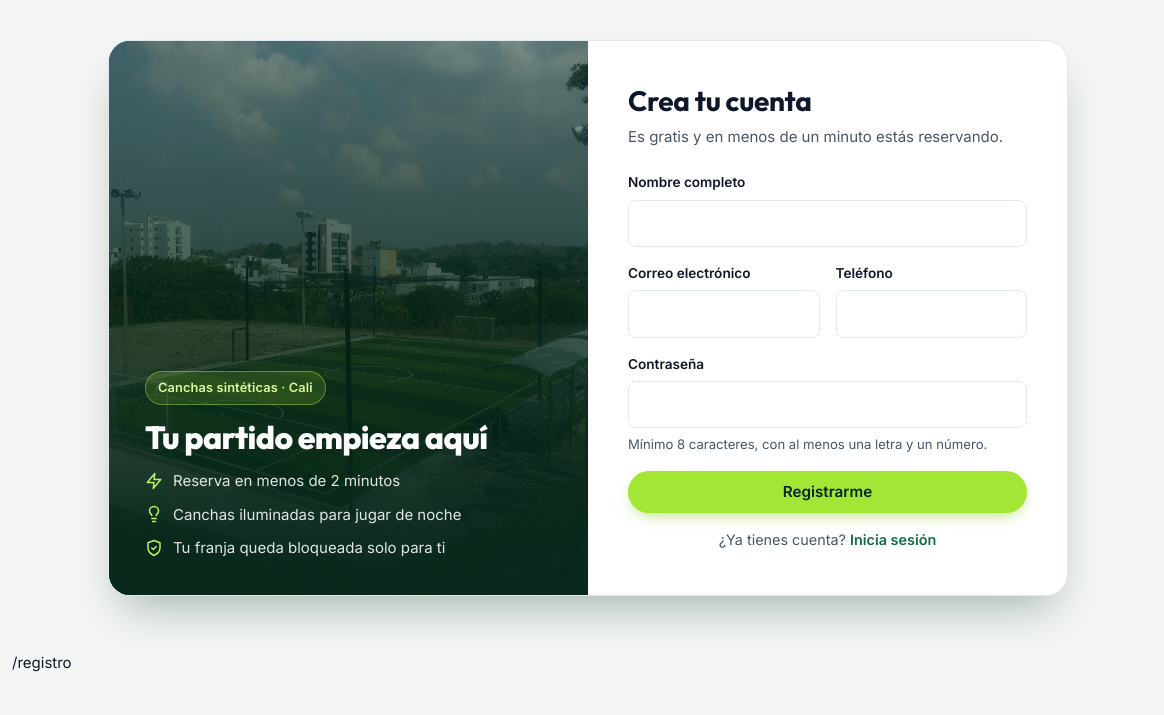
Test: RegisterPage › muestra el error cuando el correo ya existe
In the field labelled "Nombre completo": (828,223) [628,200,1027,247], type "Ana Pérez"
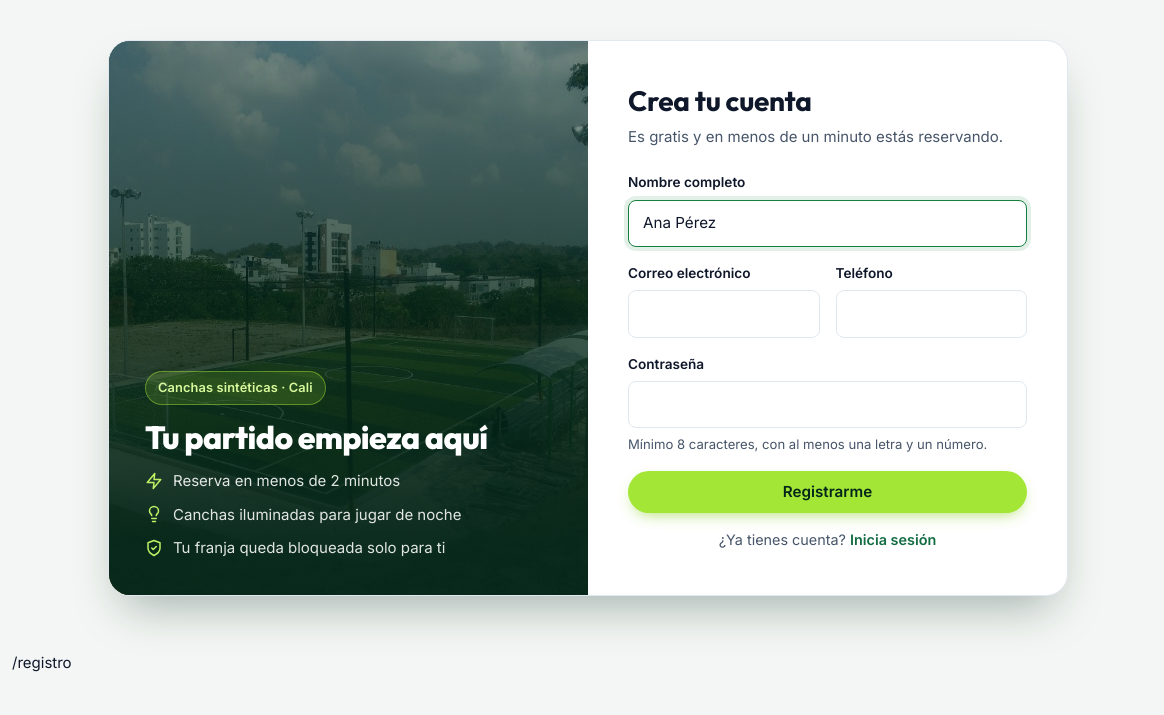
In the field labelled "Correo electrónico": (724,314) [628,290,820,338], type "ana@correo.com"
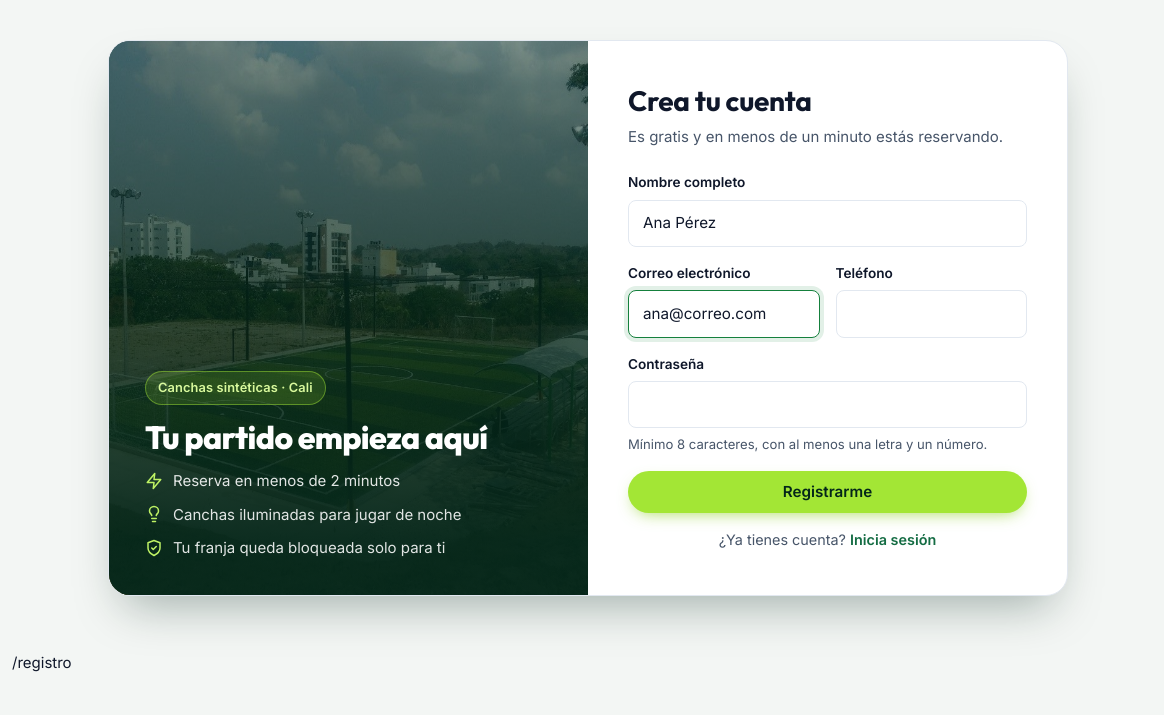
In the field labelled "Teléfono": (931,314) [836,290,1027,338], type "3001234567"
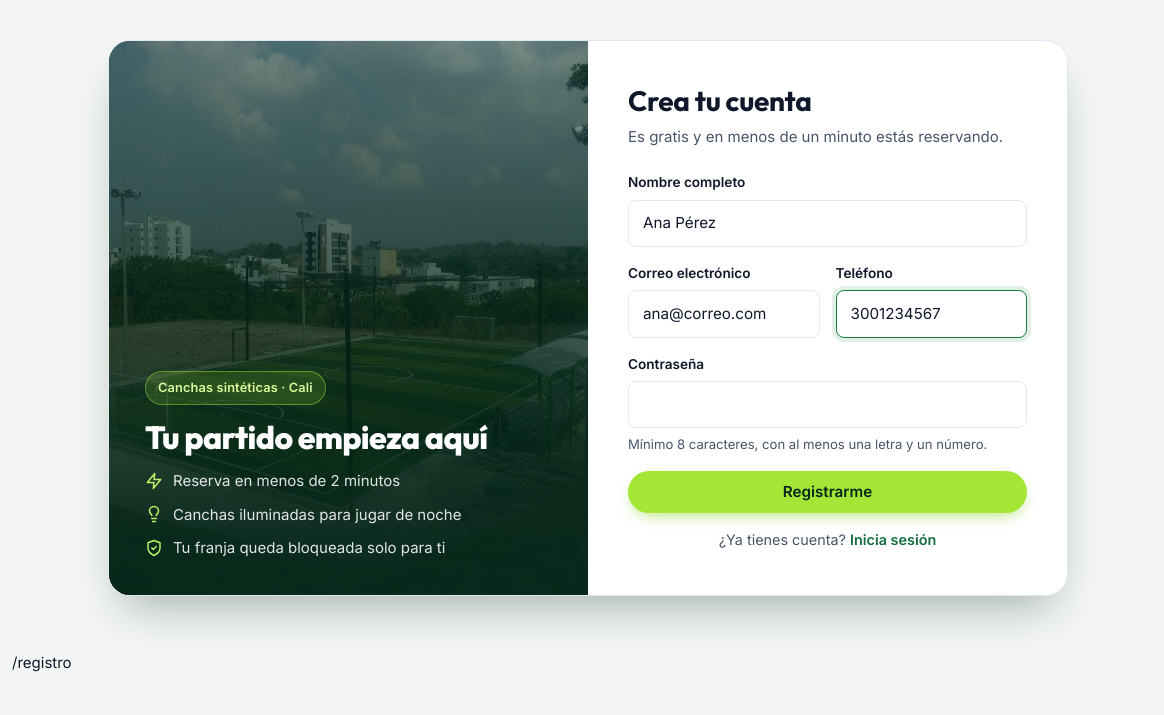
In the password field labelled "Contraseña": (828,404) [628,381,1027,428], type "Clave1234"
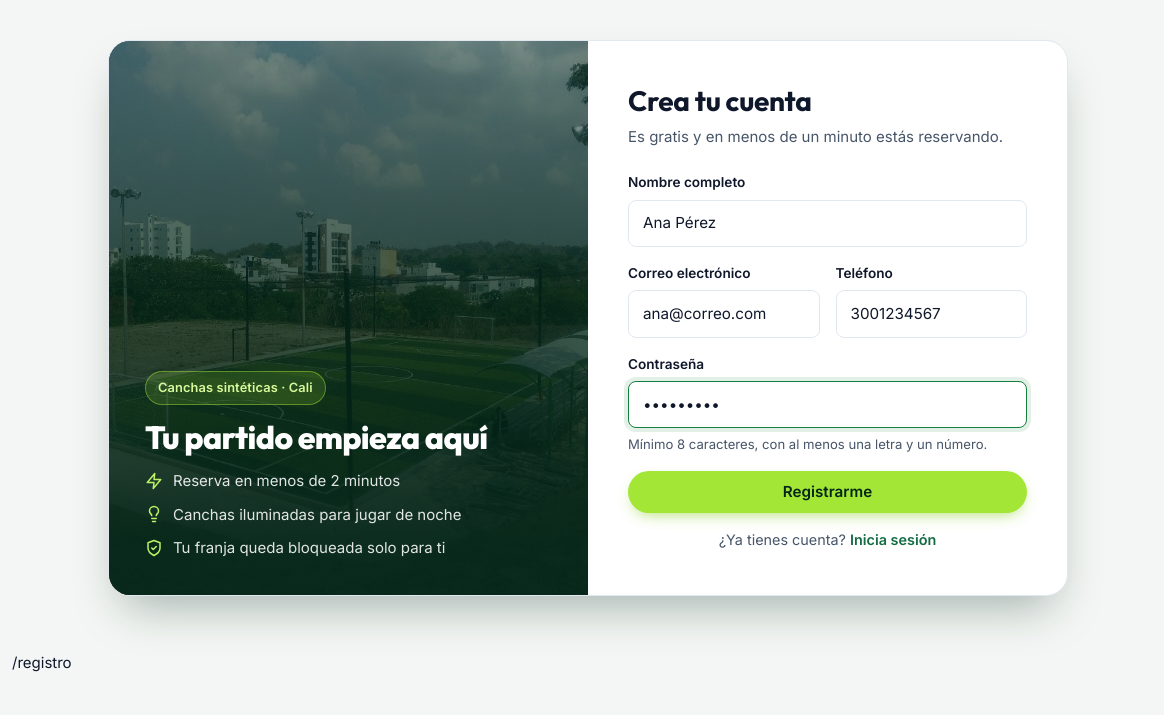
Click the button "Registrarme": (828,492) [628,471,1027,513]
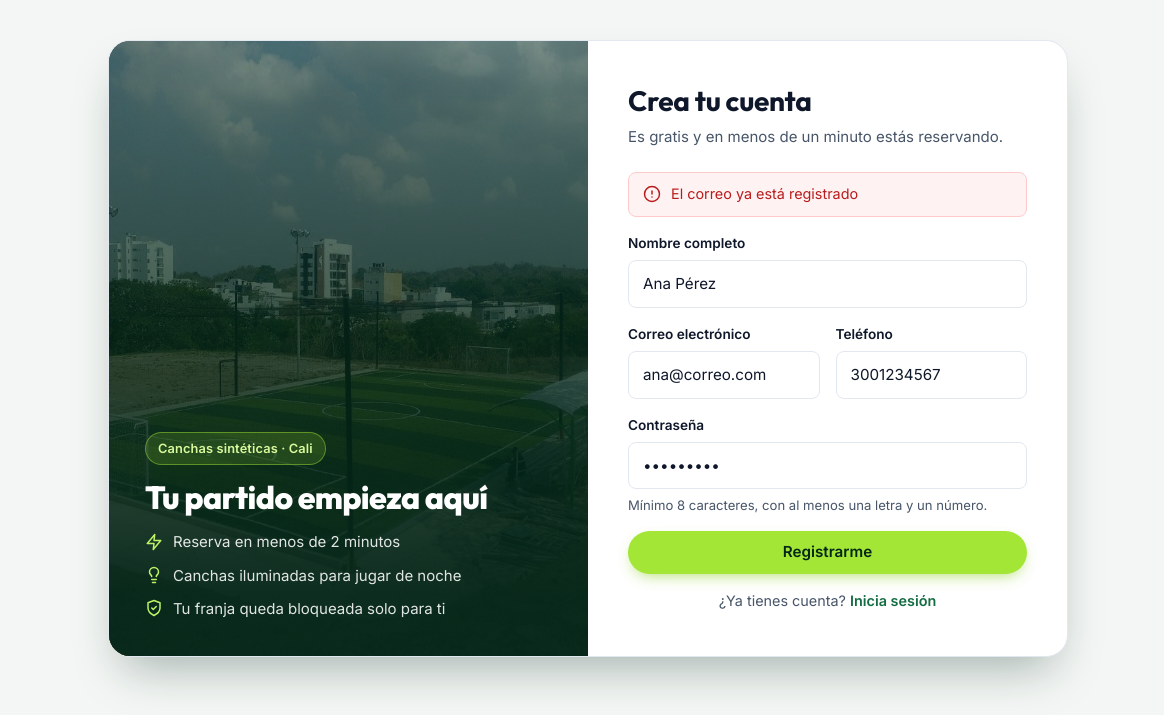
Now the message reads "El correo ya está registrado", box [671,185,858,202]
